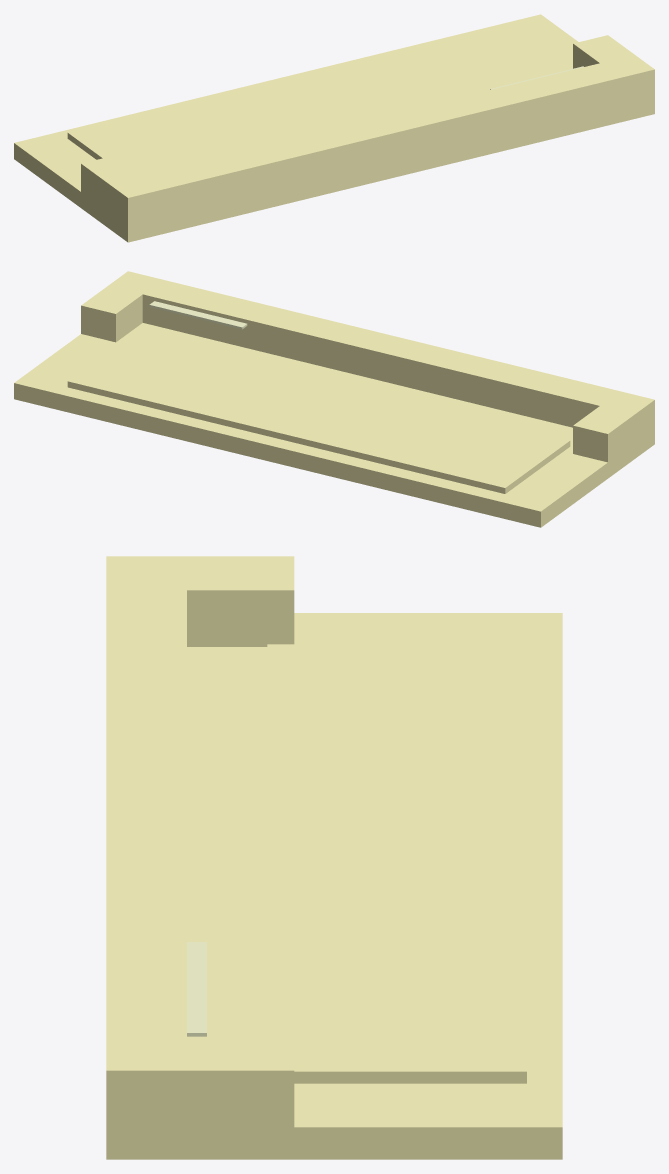
The model's file is furniture_bus_bay_curb_module.glb.
The picture shows the model from 3 angles, top to bottom: view 1: azimuth 30°, elevation 25°; view 2: azimuth 150°, elevation 25°; view 3: azimuth 270°, elevation 25°; orthographic projection. The views are drawn at different scales.
Parts seen in each view (by area): view 1: curb_front, boarding_apron, platform, curb_left_return, curb_right_return; view 2: boarding_apron, platform, curb_front, curb_left_return, curb_right_return, drain_slot; view 3: boarding_apron, platform, curb_front, curb_right_return, curb_left_return, drain_slot.
Boxes of the visible parts, bbox=[...] form: curb_front: bbox=[108, 54, 654, 233]; boarding_apron: bbox=[67, 25, 565, 174]; platform: bbox=[14, 14, 654, 242]; curb_left_return: bbox=[81, 155, 152, 226]; curb_right_return: bbox=[573, 35, 634, 68]; boarding_apron: bbox=[67, 334, 570, 493]; platform: bbox=[14, 323, 654, 527]; curb_front: bbox=[108, 271, 654, 450]; curb_left_return: bbox=[573, 400, 641, 470]; curb_right_return: bbox=[81, 278, 152, 342]; drain_slot: bbox=[149, 301, 247, 329]; boarding_apron: bbox=[267, 644, 526, 1083]; platform: bbox=[106, 613, 562, 1159]; curb_front: bbox=[106, 556, 186, 1143]; curb_right_return: bbox=[142, 1036, 294, 1143]; curb_left_return: bbox=[142, 556, 294, 646]; drain_slot: bbox=[187, 942, 206, 1036].
Bounding box in the file's own units: 2.72 × 0.22 × 1.02.
